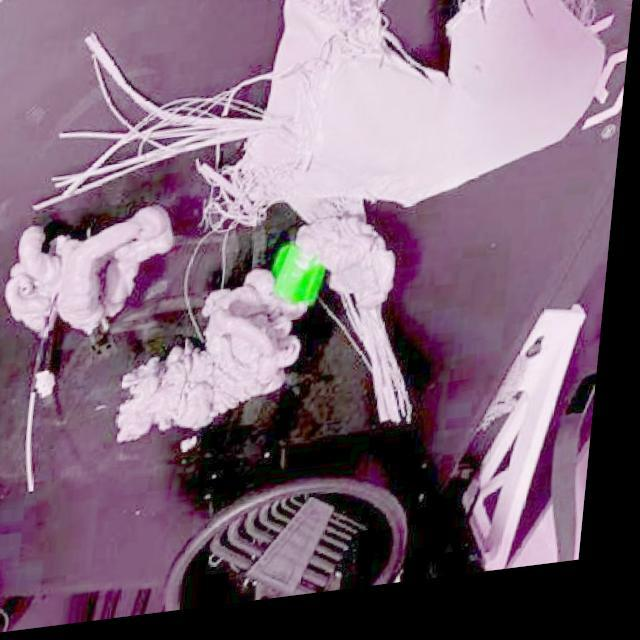spaghetti: (251, 0, 408, 93), (203, 167, 294, 242), (530, 0, 604, 50)
